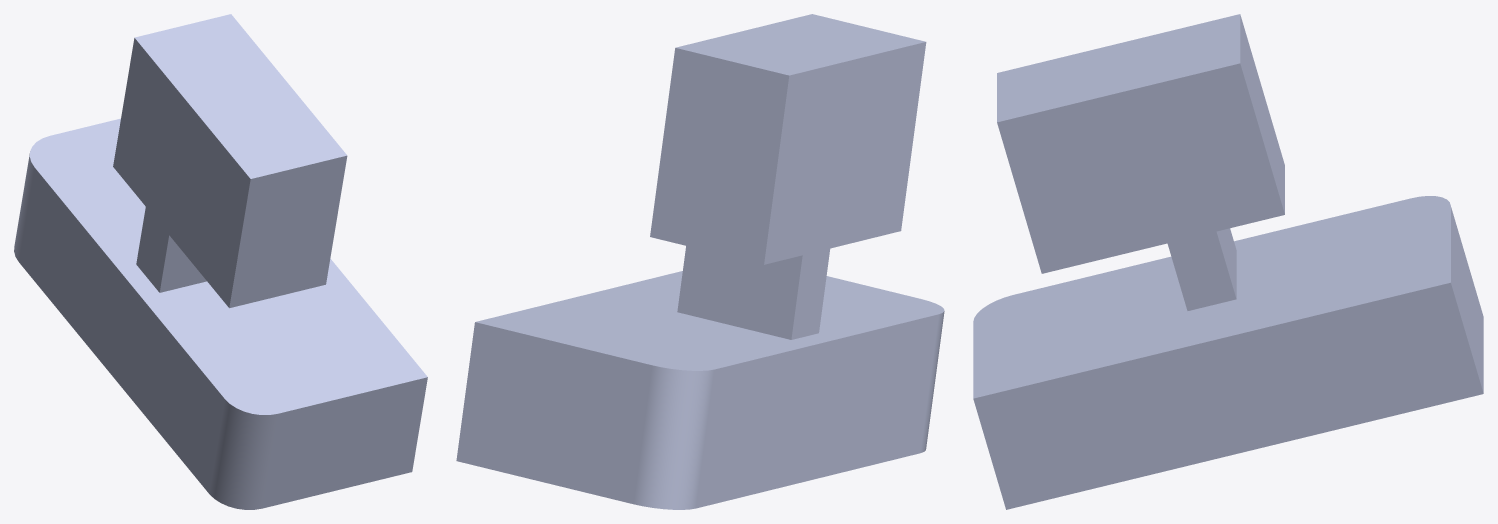
The model's file is body107_visual.obj.
The picture shows the model from 3 angles, left to right: view 1: azimuth 30°, elevation 25°; view 2: azimuth 150°, elevation 25°; view 3: azimuth 270°, elevation 25°; orthographic projection. The views are drawn at different scales.
Visible parts, largest first — view 1: Body107; view 2: Body107; view 3: Body107.
Boxes of the visible parts, left/top/right/bottom form: Body107: left=14, top=14, right=427, bottom=509; Body107: left=456, top=14, right=944, bottom=509; Body107: left=973, top=14, right=1483, bottom=509.
Bounding box in the file's own units: 0.054 × 0.1101 × 0.1239.
